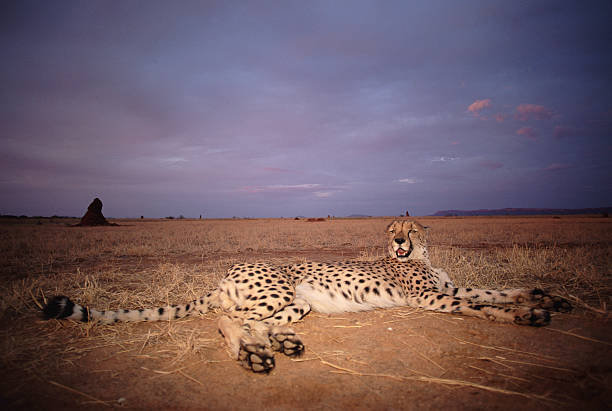cheetah: (376, 214, 448, 273)
